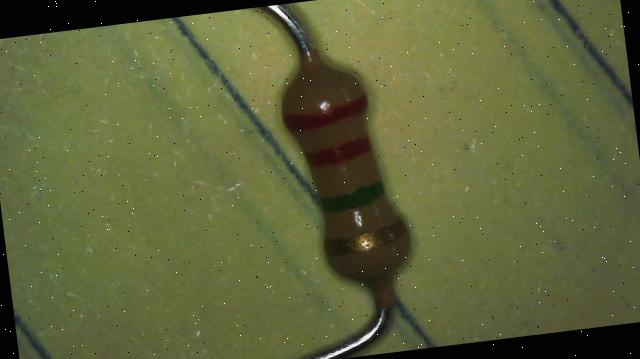gold: (324, 218, 407, 256)
green: (320, 180, 385, 212)
red: (282, 94, 370, 132), (305, 136, 372, 168)
resistor: (252, 34, 437, 303)
